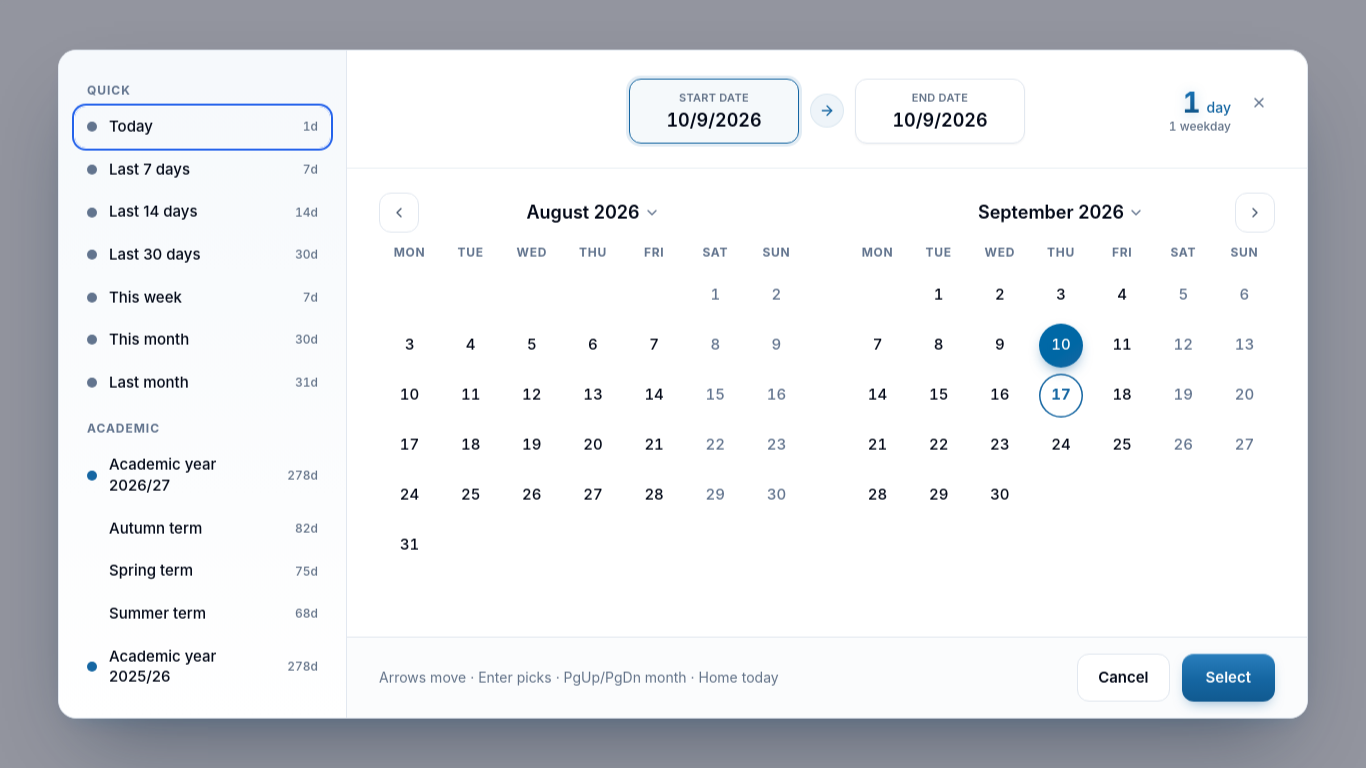
StudioRangeDialog edge cases › 2 second click earlier swaps and shows a visible message
The width and height of the screenshot is (1366, 768).
Step 1. Click the 1st cell "10" → (1061, 344), box 1030,320 -> 1092,368
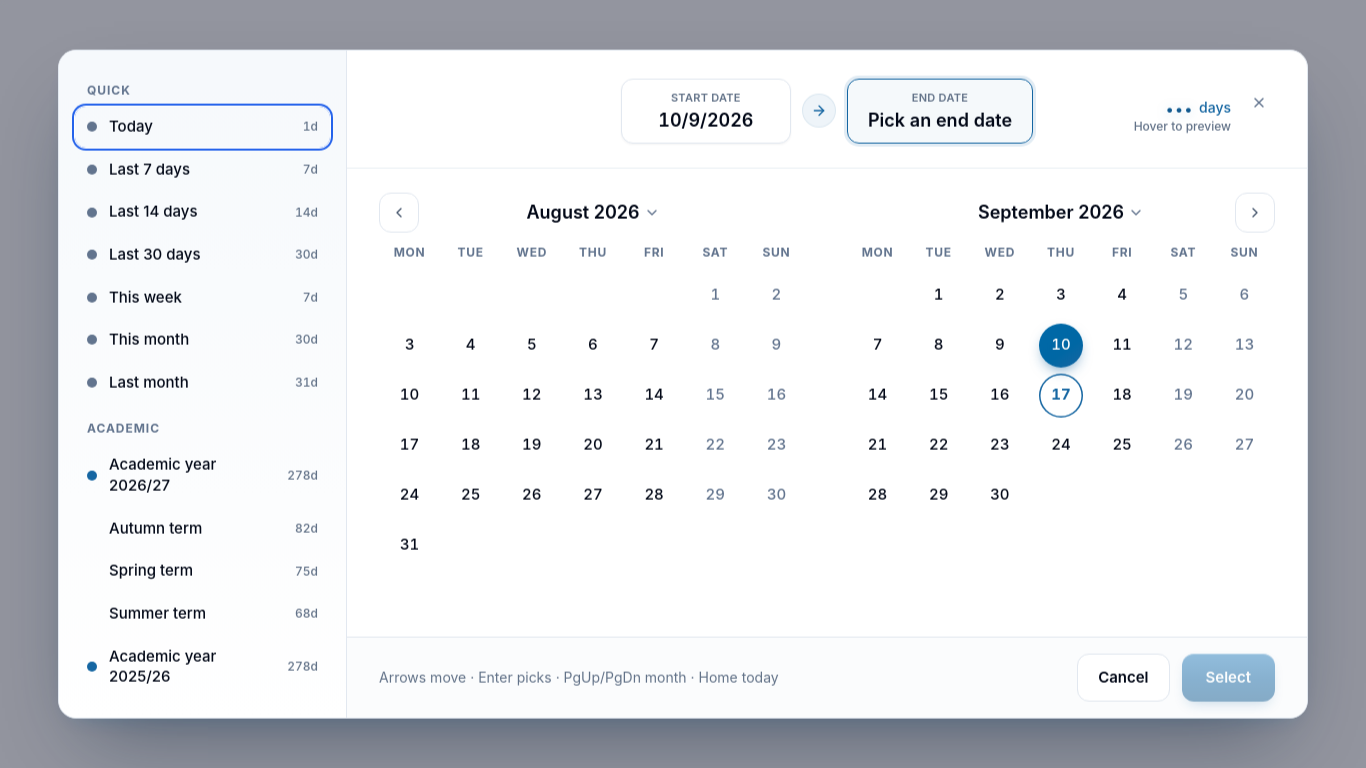
Step 2. Click the 1st cell "3" → (1061, 294), box 1030,270 -> 1092,318
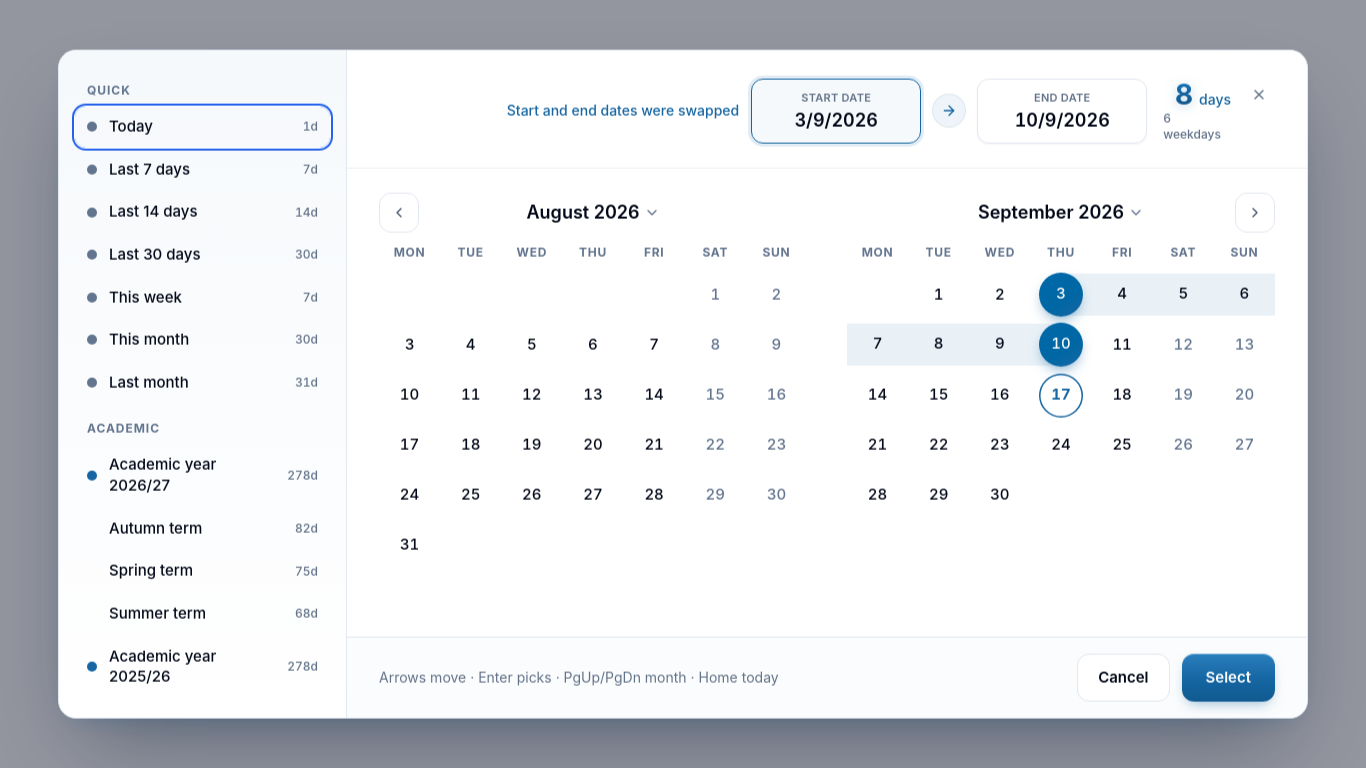
expect the message reads "Start and end dates were swapped": met, box 507,102 -> 739,119
